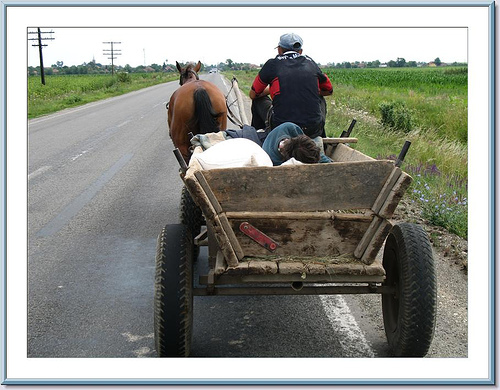horse: (166, 61, 229, 175)
